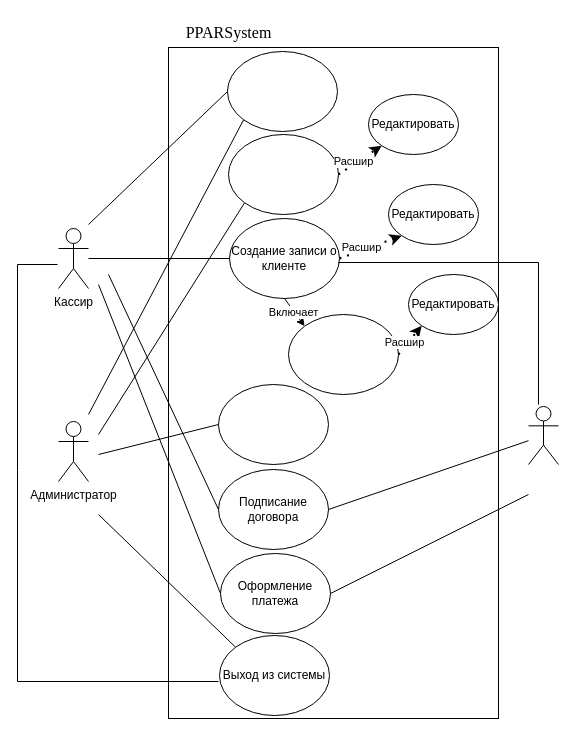
The diagram is 581 pixels wide and 736 high, and some of its shapes have lost their labels. Each missing label, with the centre of its shape:
"Авторизация" goes at (x=282, y=91).
"Клиент" goes at (x=543, y=435).
"Поиск договора/клиента" goes at (x=273, y=424).
"Создание записи о договоре" goes at (x=343, y=354).
"Создание пользователя" goes at (x=283, y=174).
